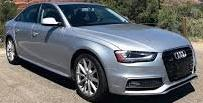Cars: (7, 5, 197, 102)
